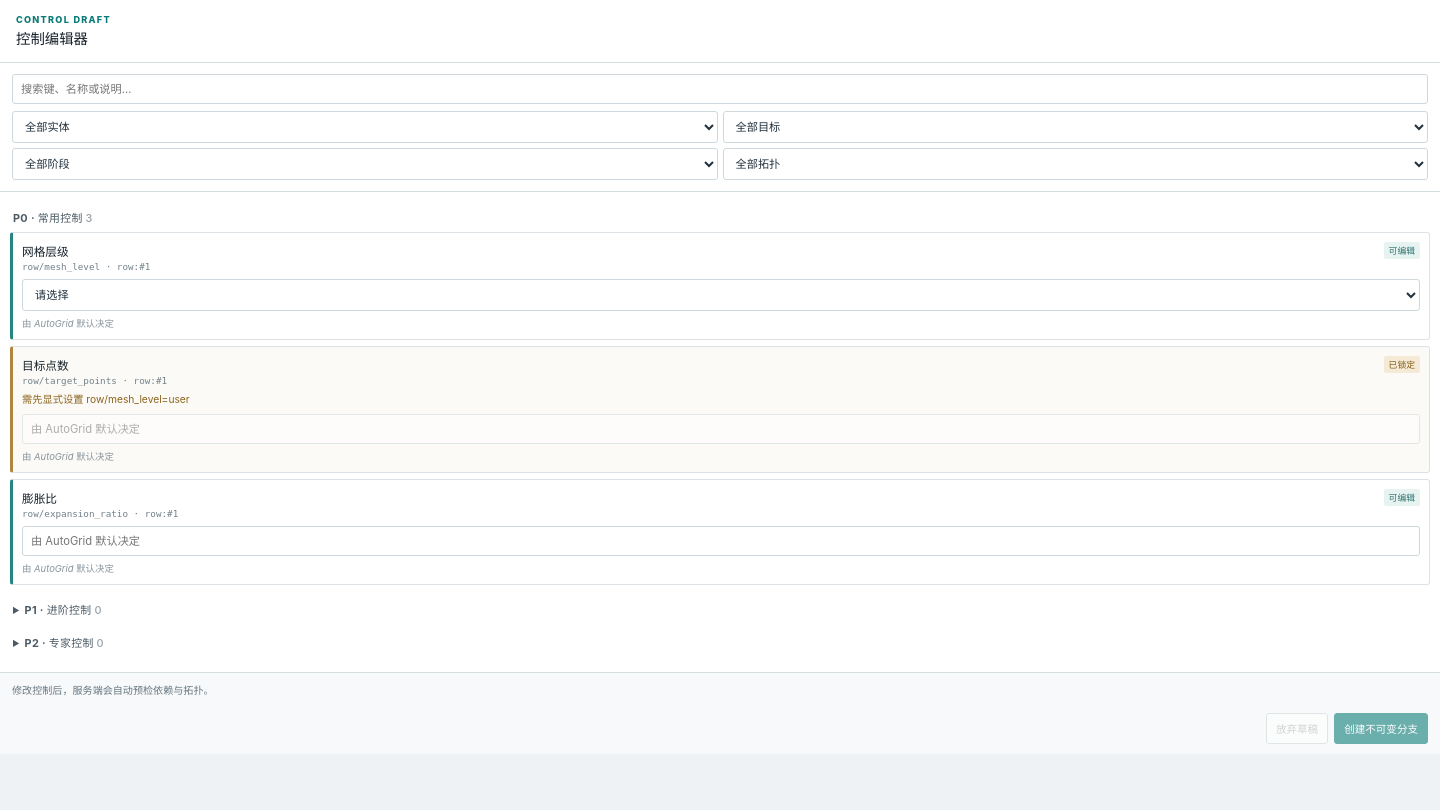
Test case: 空串、纯符号与未完成指数阻止提交：不清零、不自动清除草稿
Expected: the field named "row/target_points · row:#1" is shown, [22,414,1420,444]
Select "user" in the 5th dropdown: {"x": 721, "y": 295} [22,279,1420,311]
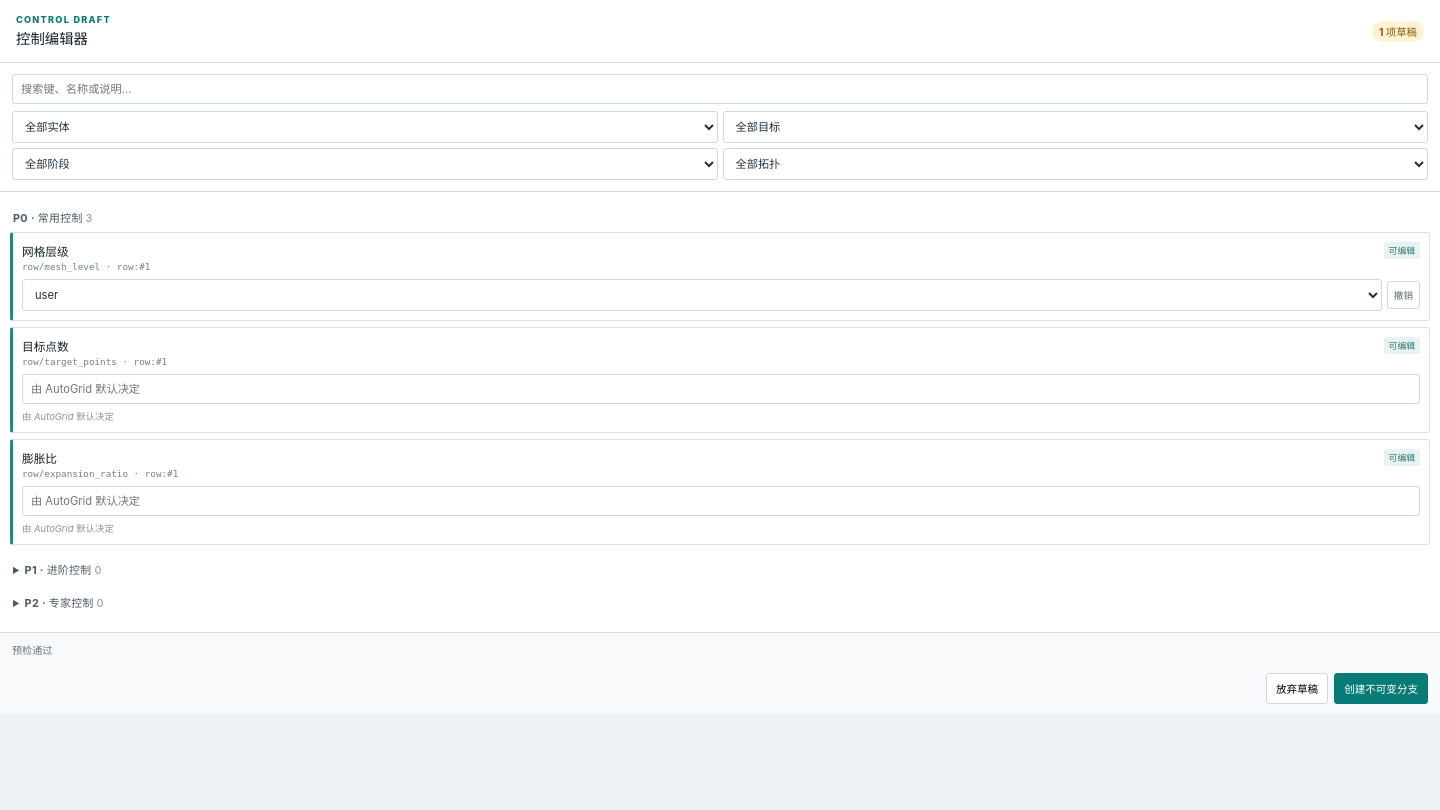
Result: the field named "row/target_points · row:#1" is enabled
In the field named "row/target_points · row:#1": {"x": 721, "y": 389} [22,374,1420,404], type "500"
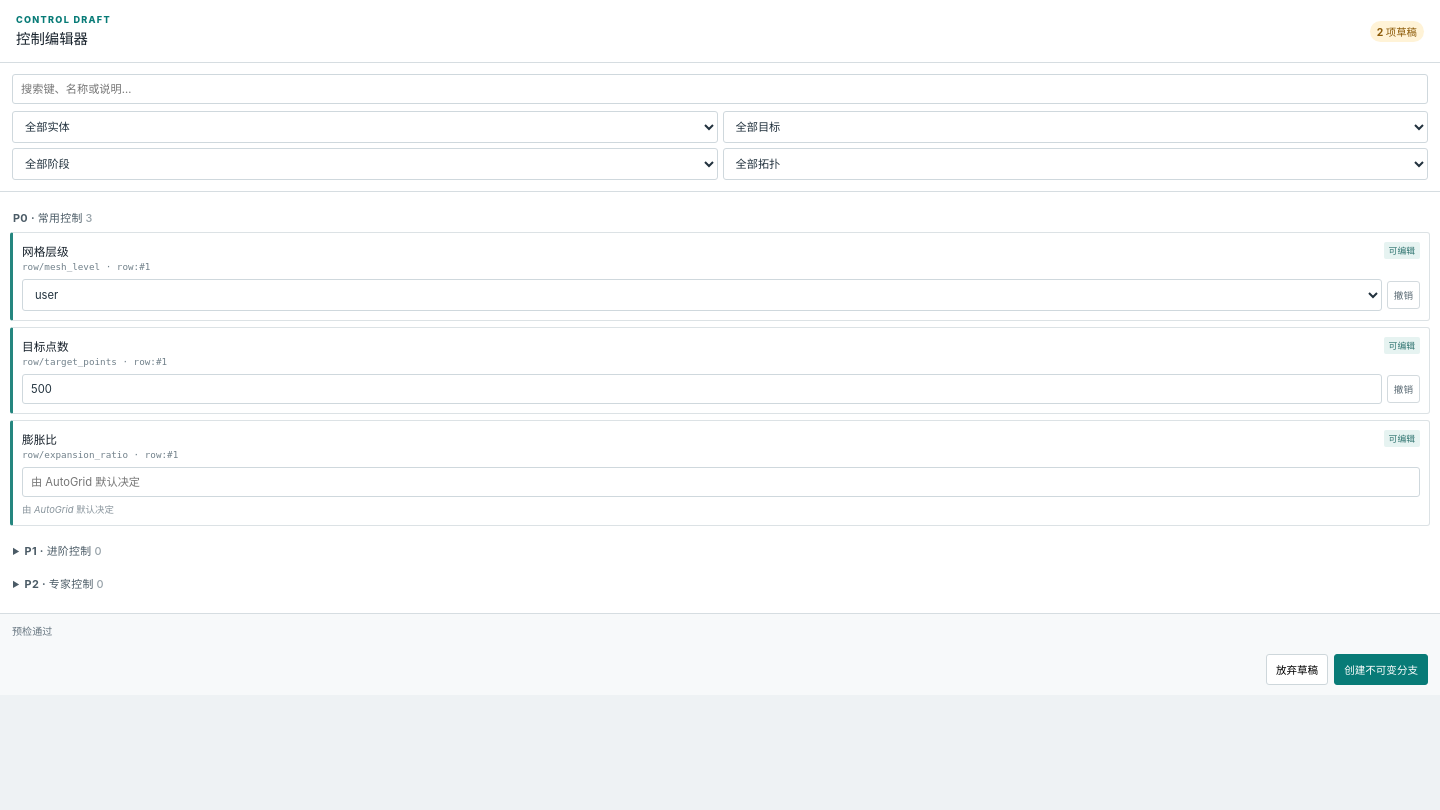
Result: the button "创建不可变分支" is enabled at [1334,654,1428,685]
Clear the field named "row/target_points · row:#1": {"x": 702, "y": 389} [22,374,1382,404]
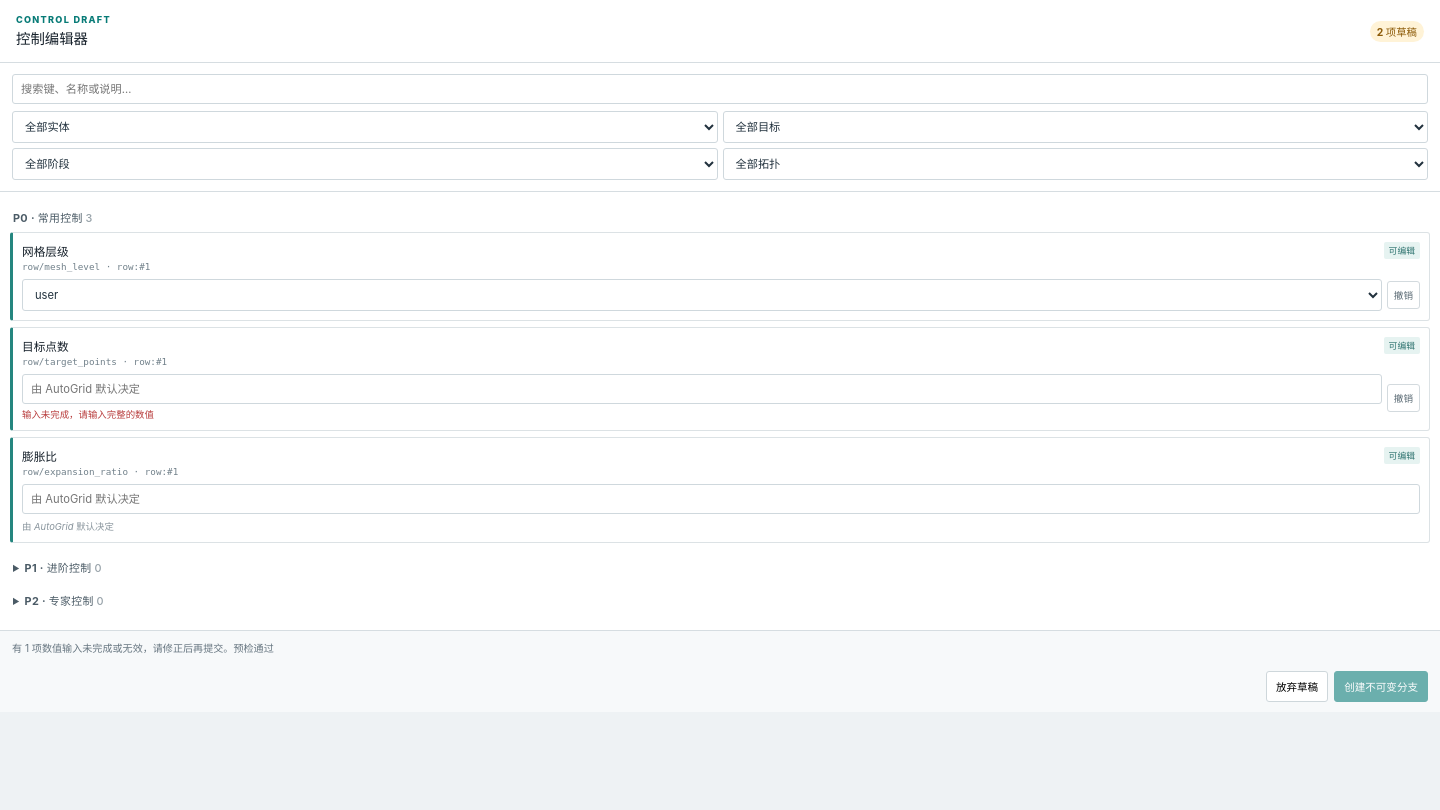
Result: the button "撤销" in the row of "输入未完成，请输入完整的数值" is shown at [1387,384,1420,412]
Result: the button "创建不可变分支" is disabled at [1334,671,1428,702]
Result: the text "有 1 项数值输入未完成或无效，请修正后再提交。预检通过" is shown at [12,642,274,654]
In the field named "row/target_points · row:#1": {"x": 702, "y": 389} [22,374,1382,404], type "+"
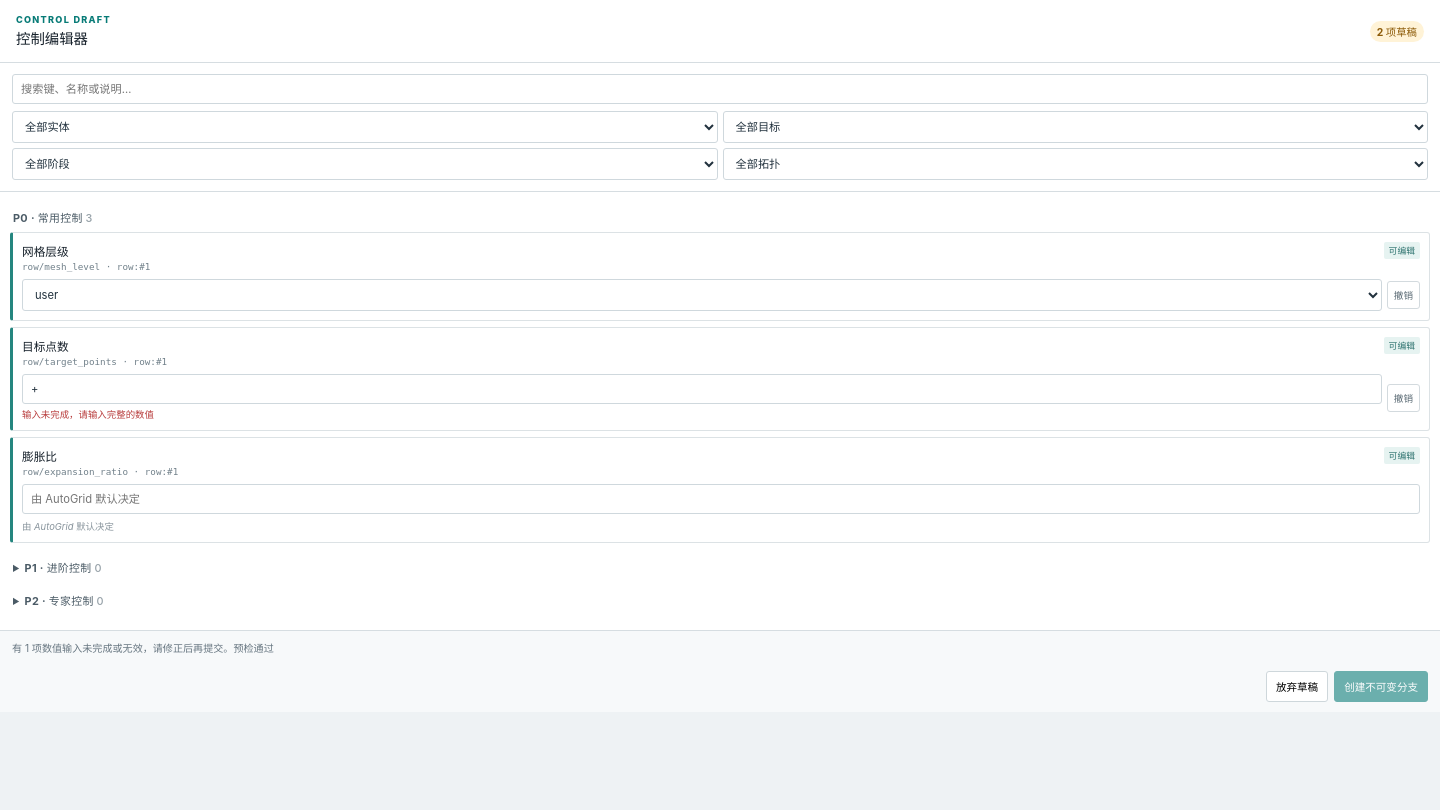
Result: the button "创建不可变分支" is disabled at [1334,671,1428,702]
Replace the text in the field named "row/target_points · row:#1" with "1e": {"x": 702, "y": 389} [22,374,1382,404]
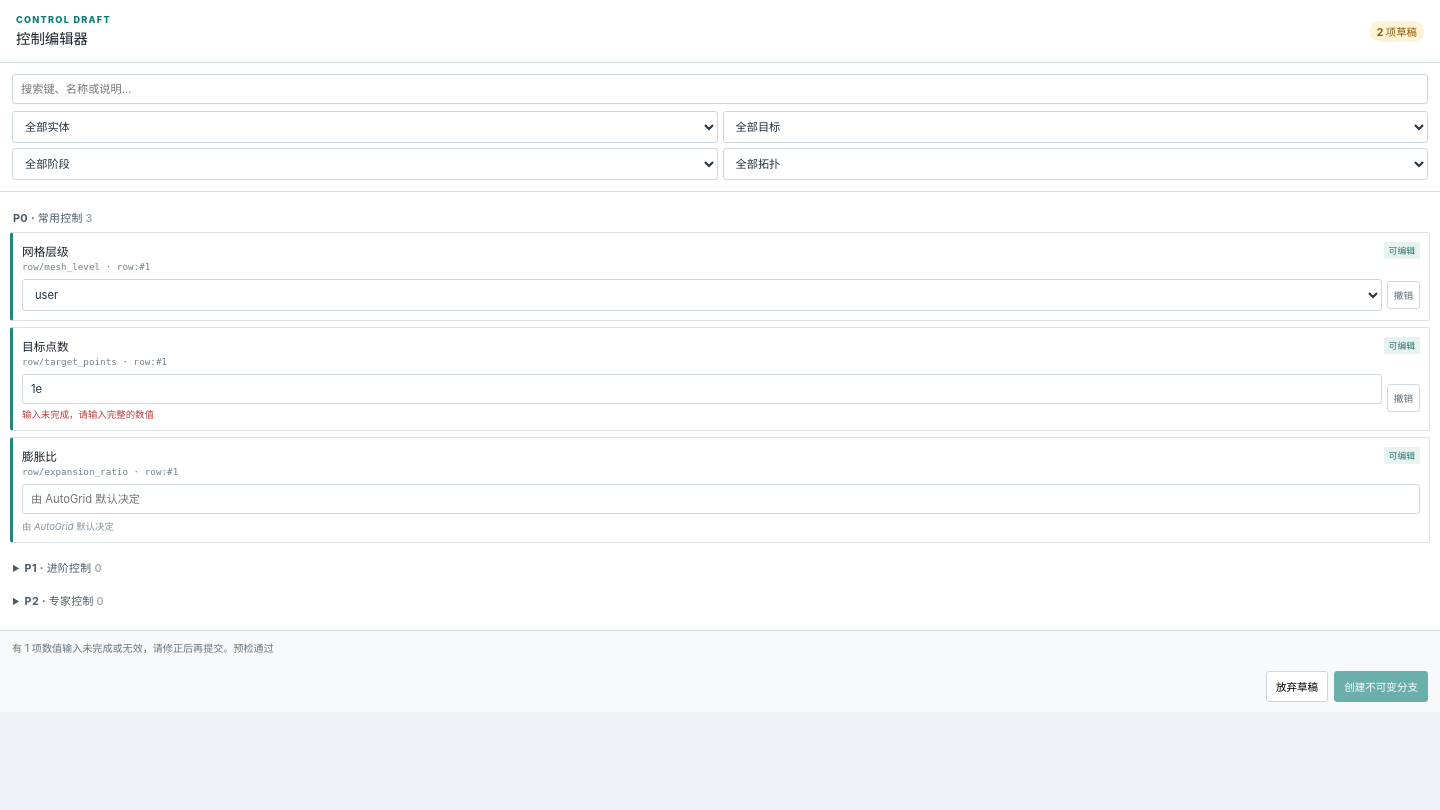
Result: the button "创建不可变分支" is disabled at [1334,671,1428,702]
Replace the text in the field named "row/target_points · row:#1" with "1e3": {"x": 702, "y": 389} [22,374,1382,404]
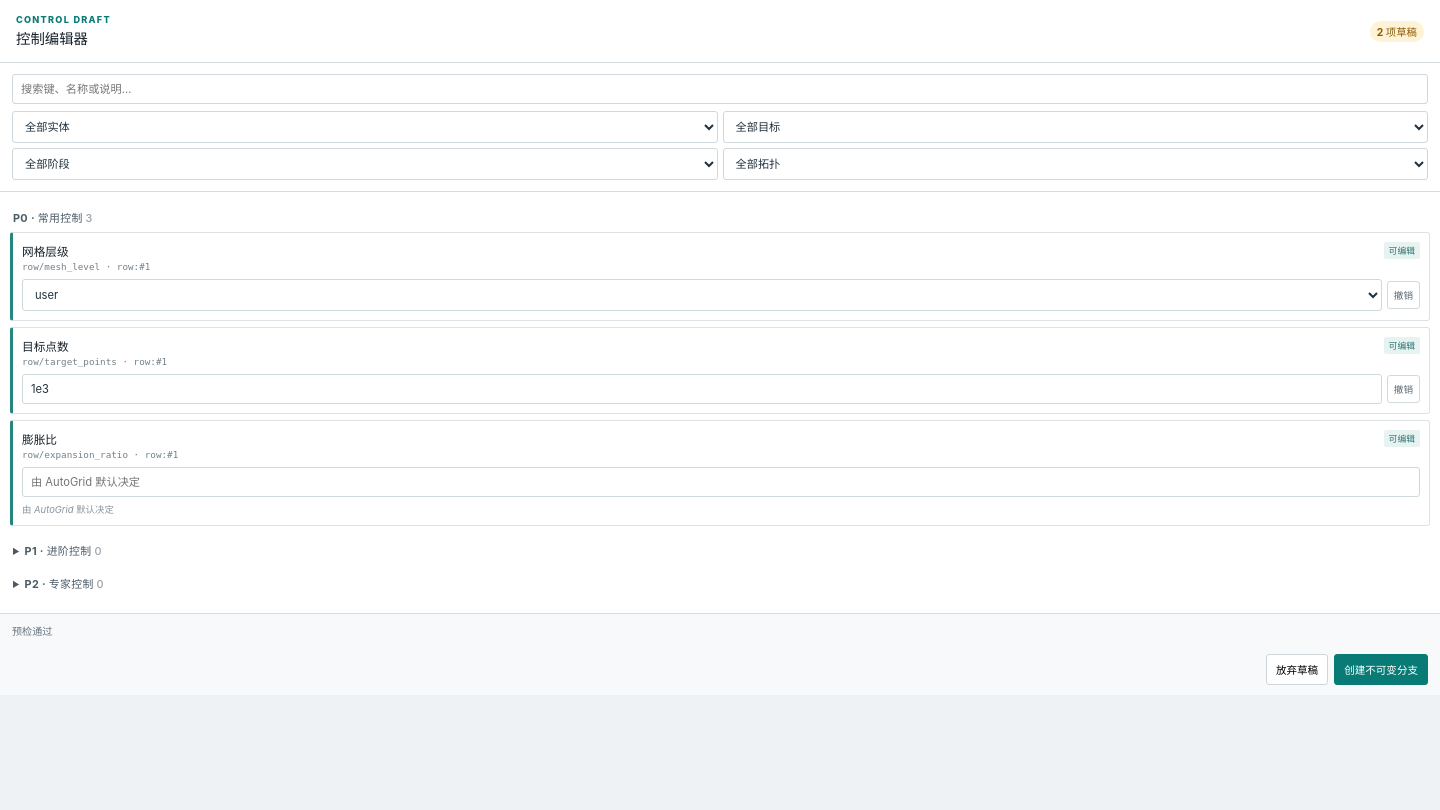
Result: the button "创建不可变分支" is enabled at [1334,654,1428,685]
Result: the text "项数值输入未完成或无效" is gone
